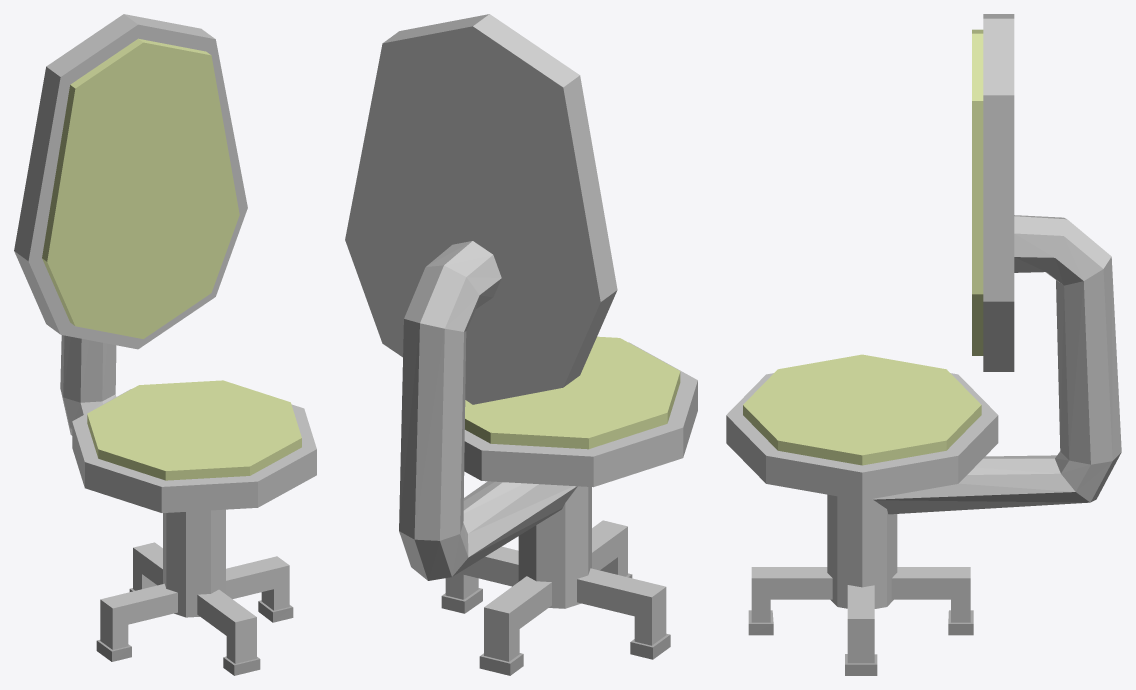
The model's file is office chair_1.fbx.
The picture shows the model from 3 angles, left to right: view 1: azimuth 30°, elevation 25°; view 2: azimuth 150°, elevation 25°; view 3: azimuth 270°, elevation 25°; orthographic projection. The views are drawn at different scales.
Visible parts, largest first — view 1: Cube_2; view 2: Cube_2; view 3: Cube_2.
Boxes of the visible parts, <box> form: Cube_2: <box>14,14,316,675</box>; Cube_2: <box>345,14,697,675</box>; Cube_2: <box>726,14,1121,675</box>.
Size of the model in its own units: 23.27 by 57.59 by 33.84.
